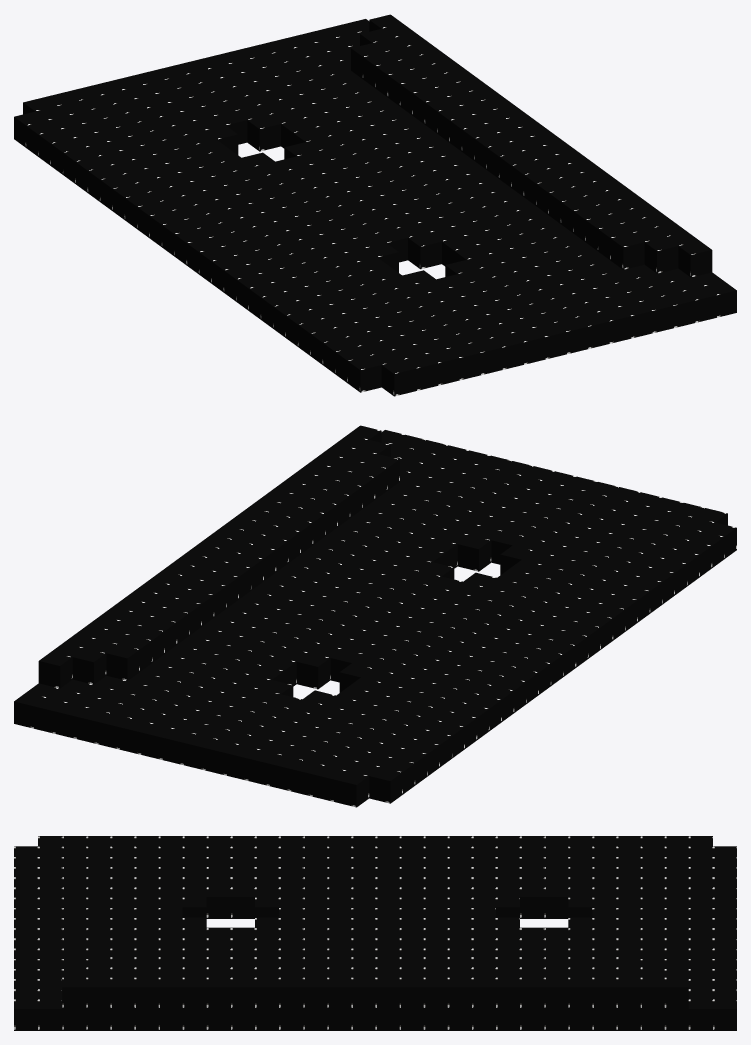
Rendered from audiocassetta_usv.gltf.
3 renders of one model, top to bottom at view 1: azimuth 30°, elevation 25°; view 2: azimuth 150°, elevation 25°; view 3: azimuth 270°, elevation 25°, orthographic. The views are drawn at different scales.
Parts seen in each view (by area): view 1: Layer.1, Layer.3, Layer.2; view 2: Layer.1, Layer.3, Layer.2; view 3: Layer.1, Layer.3, Layer.2.
Part boxes in pixels (x1,y1,x2,y2): Layer.1: (14,19,736,396); Layer.3: (351,14,712,277); Layer.2: (48,110,411,355); Layer.1: (14,430,736,807); Layer.3: (38,425,399,688); Layer.2: (339,521,702,766); Layer.1: (14,836,736,1030); Layer.3: (62,956,688,1008); Layer.2: (62,846,688,866).
Size of the model in its own units: 17 by 2 by 30.
1 material, 1 textured.
